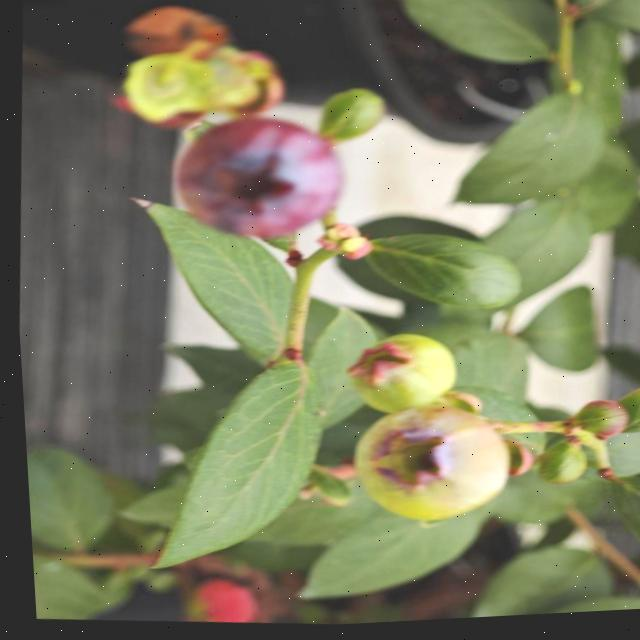Semi-RipeBlueBerry: (166, 109, 349, 248)
UnripeBlueBerry: (341, 401, 511, 534), (341, 330, 458, 428)
